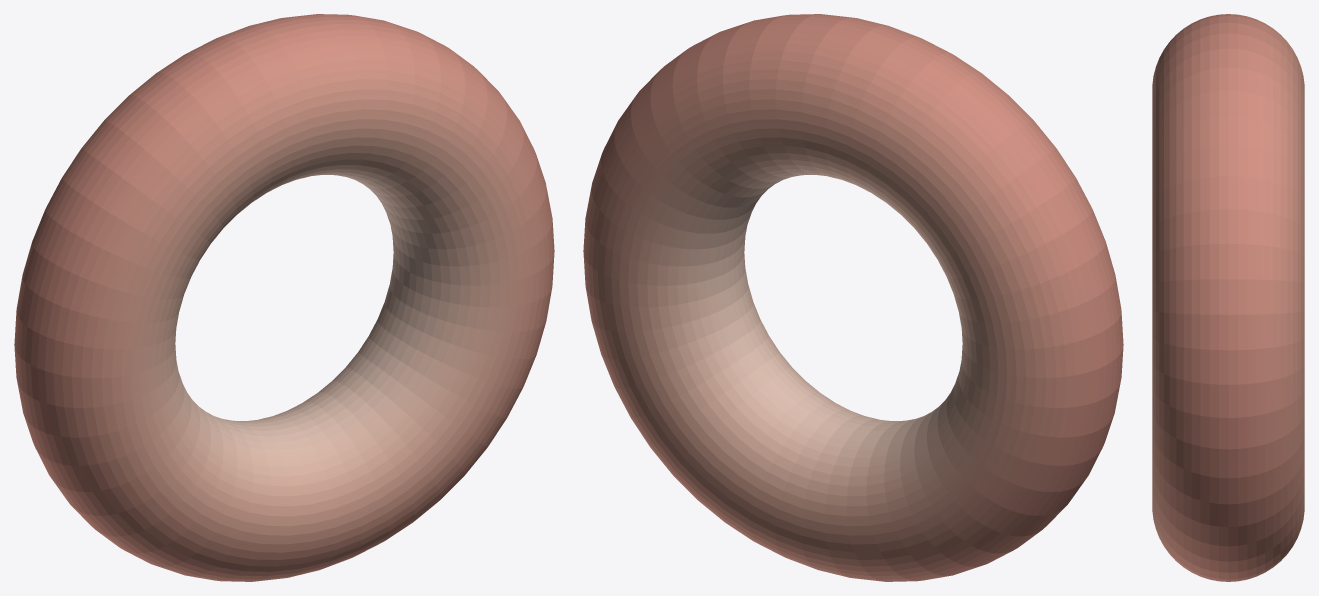
3 views of the same model, side by side, from view 1: azimuth 30°, elevation 25°; view 2: azimuth 150°, elevation 25°; view 3: azimuth 270°, elevation 25° (orthographic). The views are drawn at different scales.
Visible parts, largest first — view 1: world; view 2: world; view 3: world.
Boxes of the visible parts, x1,y1,x2,y2 form: world: (14,14,554,581); world: (583,14,1123,581); world: (1152,14,1304,581).
Bounding box in the file's own units: 28.27 × 28.21 × 7.59.
